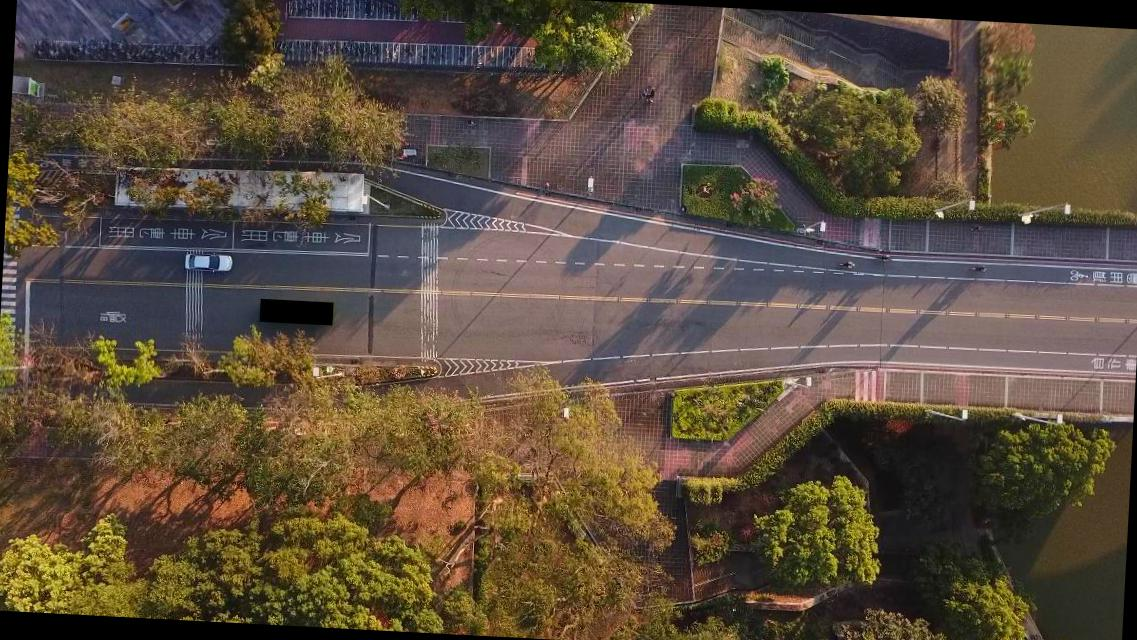vehicle: (184, 252, 231, 273)
